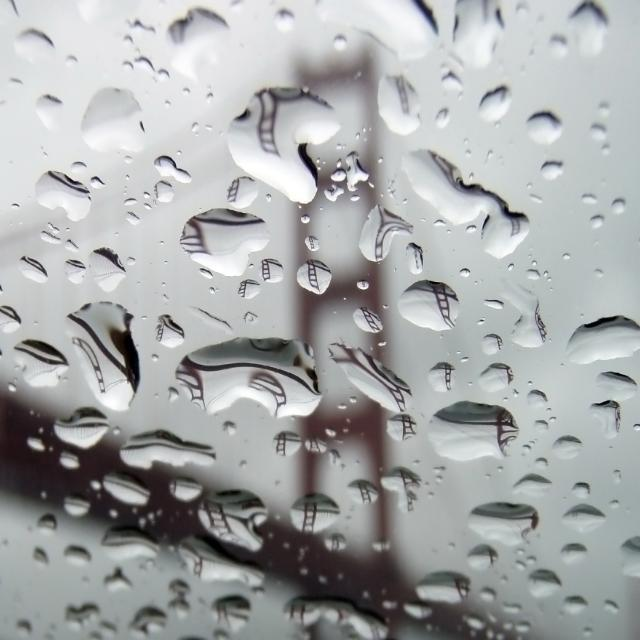raindrop: (214, 56, 356, 212), (161, 316, 341, 431), (401, 138, 538, 272), (58, 290, 152, 418), (172, 188, 280, 298), (422, 383, 528, 482), (195, 470, 282, 571), (452, 487, 558, 568), (330, 330, 422, 423), (70, 77, 156, 172), (110, 418, 236, 476), (386, 262, 476, 340), (556, 297, 640, 379), (497, 270, 562, 358), (369, 66, 426, 152), (356, 191, 414, 273), (30, 160, 96, 224), (283, 482, 338, 546)
